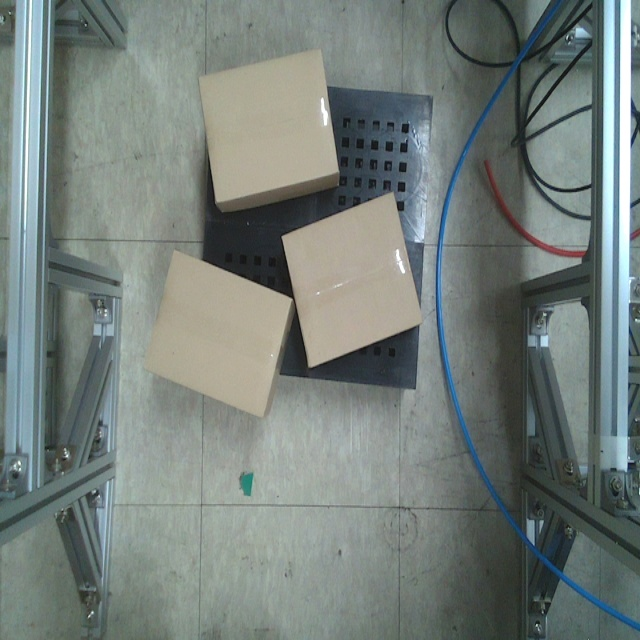box: (280, 189, 425, 369), (143, 248, 294, 419), (195, 45, 341, 206)
